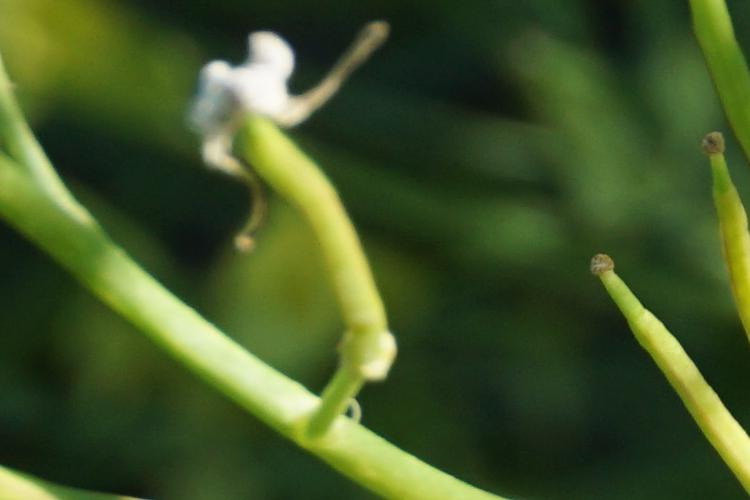pod: (599, 238, 741, 495), (695, 121, 750, 317)
white: (177, 56, 357, 197)
